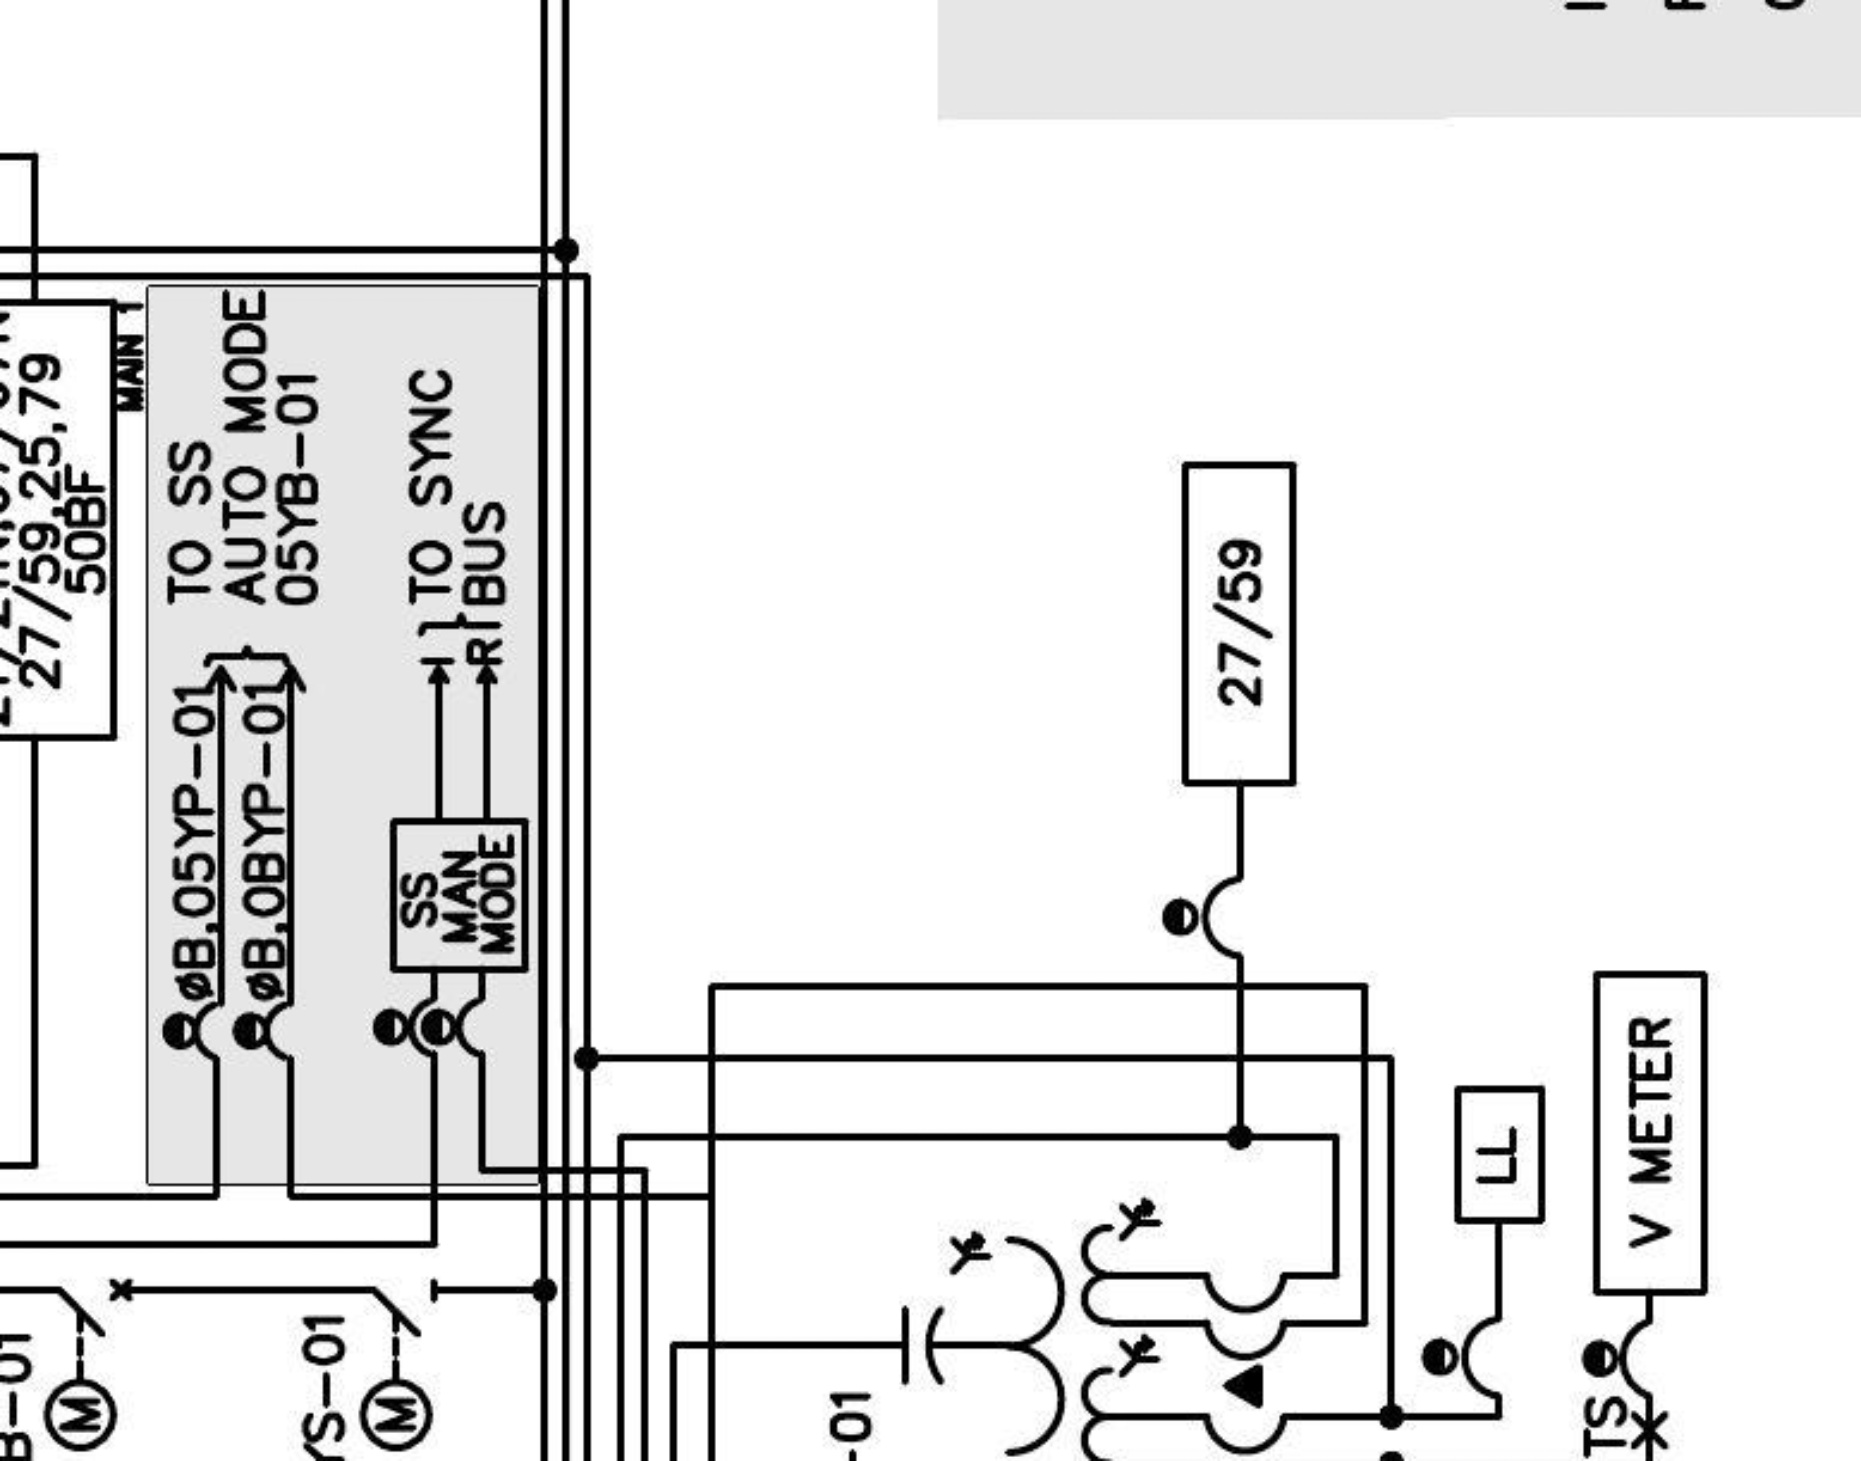115_1way_ds_w_motor: (358, 1277, 440, 1453)
115_breaker: (56, 1278, 134, 1339)
LL: (1452, 1083, 1549, 1226)
ss_man_mode: (390, 818, 530, 974)
v_m_digital: (1591, 969, 1711, 1299)
